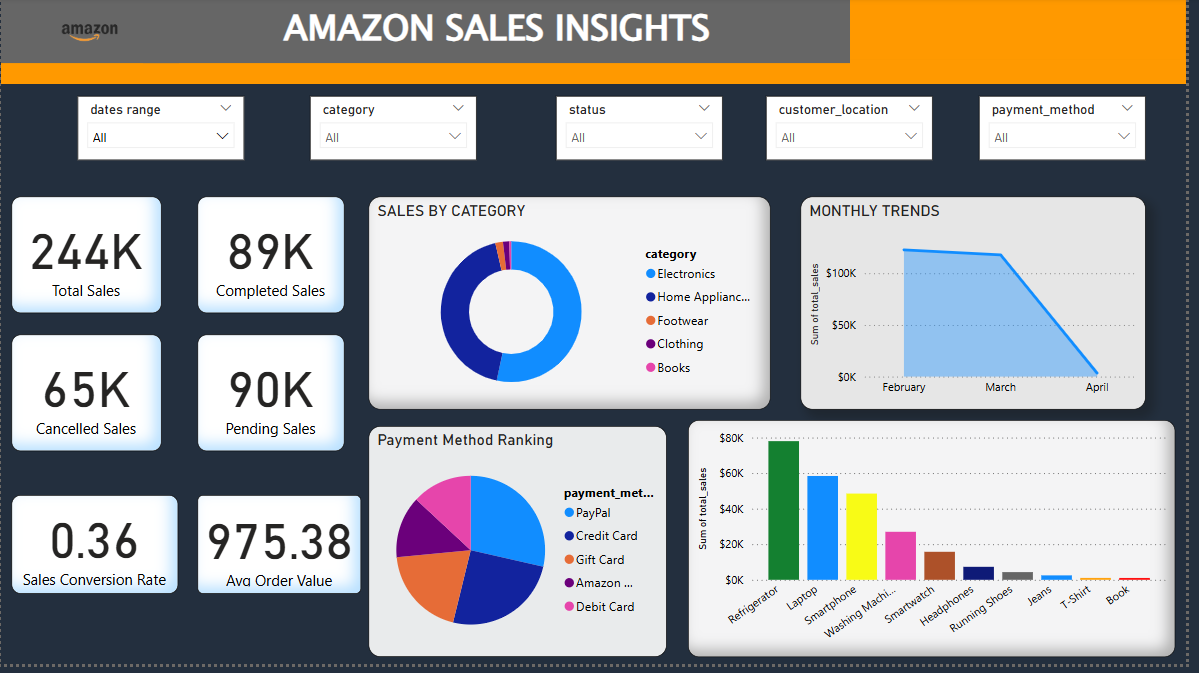

The dashboard page shown, as its layout file describes it:
{"tool":"powerbi","page":{"name":"EXECUTIVE INSIGHTS","canvas":[1280,720],"ordinal":0},"visuals":[{"type":"card","fields":{"Values":["amazon_sales_data_2025.Total Sales"]},"box":[0,123.1,142.5,106.9],"z":0},{"type":"card","fields":{"Values":["amazon_sales_data_2025.Completed Sales"]},"box":[142.5,123.1,139.3,106.9],"z":1000},{"type":"card","fields":{"Values":["amazon_sales_data_2025.Avg Order Value"]},"box":[740,123.1,176.5,106.9],"z":2000},{"type":"card","fields":{"Values":["amazon_sales_data_2025.Cancelled Sales"]},"box":[281.7,123.1,140.9,106.9],"z":3000},{"type":"card","fields":{"Values":["amazon_sales_data_2025.Pending Sales"]},"box":[422.6,123.1,140.9,106.9],"z":4000},{"type":"card","fields":{"Values":["amazon_sales_data_2025.Sales Conversion Rate"]},"box":[563.5,123.1,176.5,106.9],"z":5000},{"type":"areaChart","title":"MONTHLY TRENDS","fields":{"Category":["amazon_sales_data_2025.date.Variation.Date Hierarchy.Month"],"Y":["Sum(amazon_sales_data_2025.total_sales)"]},"box":[924.6,71.2,354.6,288.2],"z":6000},{"type":"donutChart","title":"SALES BY CATEGORY","fields":{"Category":["amazon_sales_data_2025.category"],"Y":["Sum(amazon_sales_data_2025.total_sales)"]},"box":[191.1,443.7,548.9,276.9],"z":7000},{"type":"clusteredColumnChart","title":"TOP PRODUCTS","fields":{"Category":["amazon_sales_data_2025.product"],"Y":["Sum(amazon_sales_data_2025.total_sales)"]},"box":[740,353,540.8,367.6],"z":8000},{"type":"pieChart","title":"Payment Method Ranking","fields":{"Category":["amazon_sales_data_2025.payment_method"],"Y":["Sum(amazon_sales_data_2025.total_sales)"]},"box":[191.1,241.3,472.8,202.4],"z":9000},{"type":"slicer","fields":{"Values":["amazon_sales_data_2025.date"]},"box":[0,241.3,179.7,69.6],"z":10000},{"type":"slicer","fields":{"Values":["amazon_sales_data_2025.category"]},"box":[0,310.9,179.7,64.8],"z":11000},{"type":"slicer","fields":{"Values":["amazon_sales_data_2025.status"]},"box":[0,375.7,179.7,68],"z":12000},{"type":"slicer","fields":{"Values":["amazon_sales_data_2025.customer_location"]},"box":[0,443.7,179.7,64.8],"z":13000},{"type":"slicer","fields":{"Values":["amazon_sales_data_2025.payment_method"]},"box":[0,508.4,179.7,68],"z":14000},{"type":"shape","box":[0,79.3,845.2,27.5],"z":15000},{"type":"image","box":[0,0,191.1,79.3],"z":16000},{"type":"shape","box":[877.6,0,401.6,68],"z":17000},{"type":"shape","box":[830.7,0,93.9,106.9],"z":18000},{"type":"textbox","title":"AM","box":[153.8,0,676.8,71.2],"z":19000}]}

Visuals, with their boxes in screenshot pixels (x1, y1, x2, y2), scaled from the page's 1280x720 canvas onto the 1199x673 screenshot:
card - amazon_sales_data_2025.Total Sales: (left=0, top=115, right=133, bottom=215)
card - amazon_sales_data_2025.Completed Sales: (left=133, top=115, right=264, bottom=215)
card - amazon_sales_data_2025.Avg Order Value: (left=693, top=115, right=859, bottom=215)
card - amazon_sales_data_2025.Cancelled Sales: (left=264, top=115, right=396, bottom=215)
card - amazon_sales_data_2025.Pending Sales: (left=396, top=115, right=528, bottom=215)
card - amazon_sales_data_2025.Sales Conversion Rate: (left=528, top=115, right=693, bottom=215)
"MONTHLY TRENDS" areaChart: (left=866, top=67, right=1198, bottom=336)
"SALES BY CATEGORY" donutChart: (left=179, top=415, right=693, bottom=672)
"TOP PRODUCTS" clusteredColumnChart: (left=693, top=330, right=1198, bottom=672)
"Payment Method Ranking" pieChart: (left=179, top=226, right=622, bottom=415)
slicer - amazon_sales_data_2025.date: (left=0, top=226, right=168, bottom=291)
slicer - amazon_sales_data_2025.category: (left=0, top=291, right=168, bottom=351)
slicer - amazon_sales_data_2025.status: (left=0, top=351, right=168, bottom=415)
slicer - amazon_sales_data_2025.customer_location: (left=0, top=415, right=168, bottom=475)
slicer - amazon_sales_data_2025.payment_method: (left=0, top=475, right=168, bottom=539)
shape: (left=0, top=74, right=792, bottom=100)
image: (left=0, top=0, right=179, bottom=74)
shape: (left=822, top=0, right=1198, bottom=64)
shape: (left=778, top=0, right=866, bottom=100)
"AM" textbox: (left=144, top=0, right=778, bottom=67)
